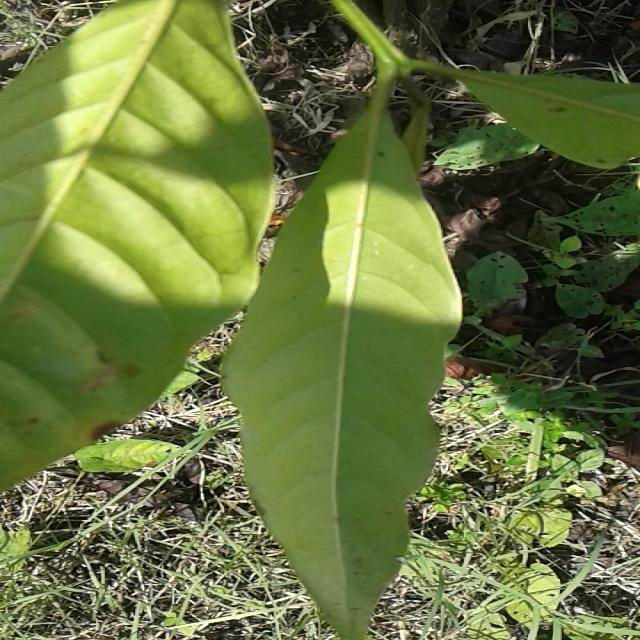Sanas: (218, 72, 463, 640)
